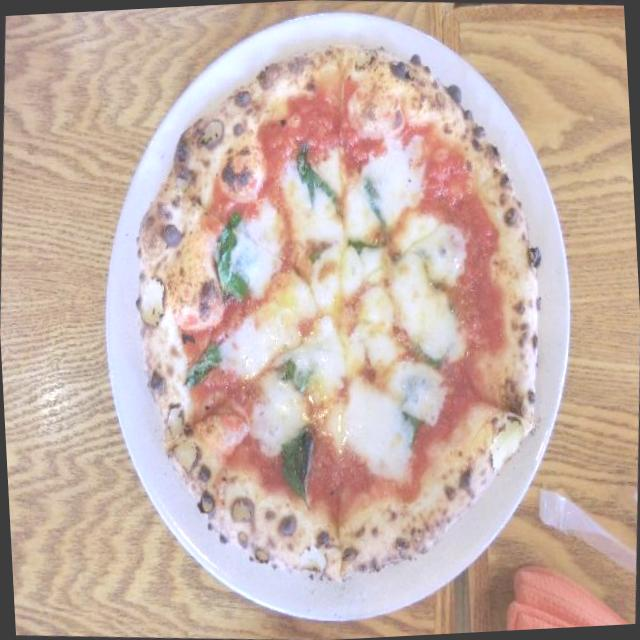Pizza: (114, 38, 567, 590)
